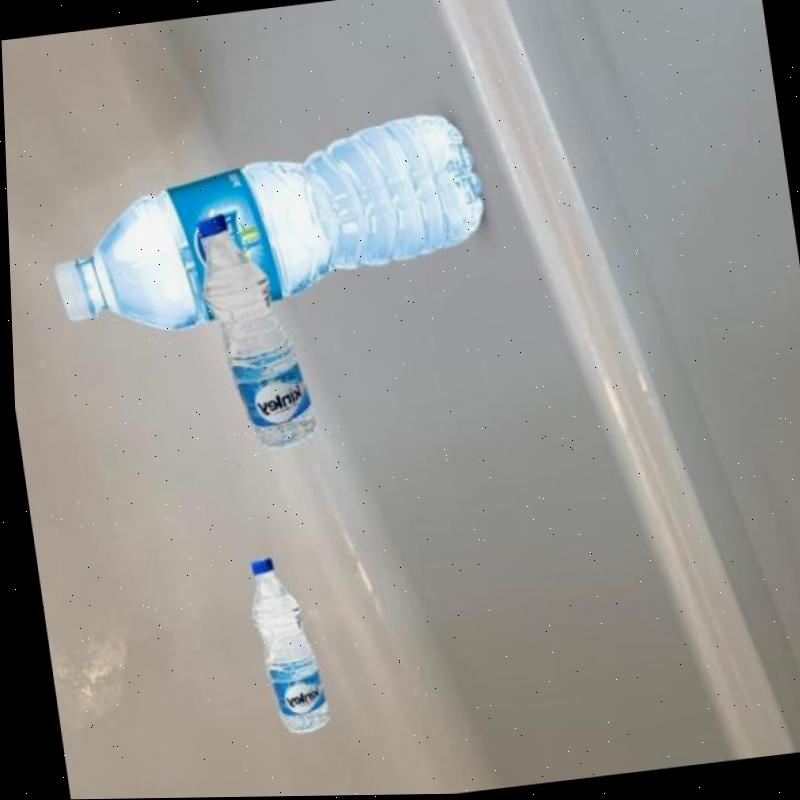botella: (34, 115, 493, 345), (181, 208, 323, 462), (229, 543, 335, 742)
